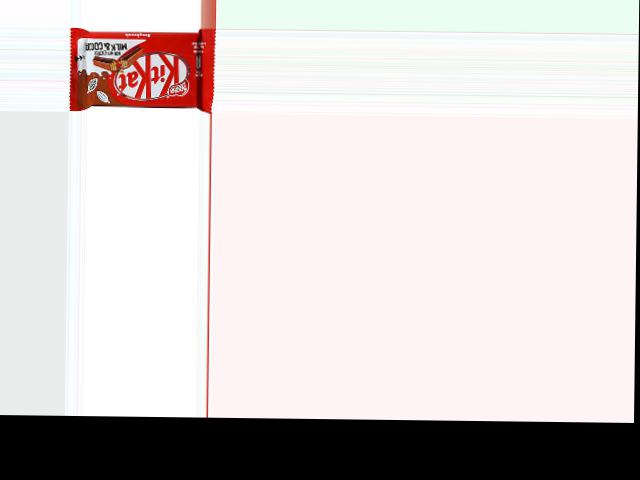chocolate: (67, 26, 214, 113)
